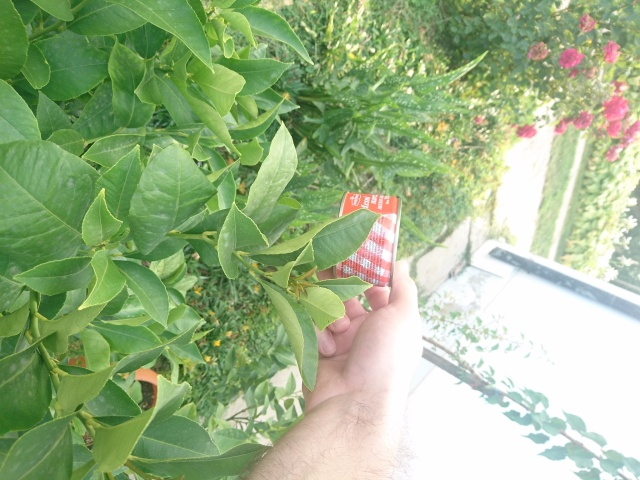Podravka Luncheon Meat 150g: (328, 188, 405, 290)
